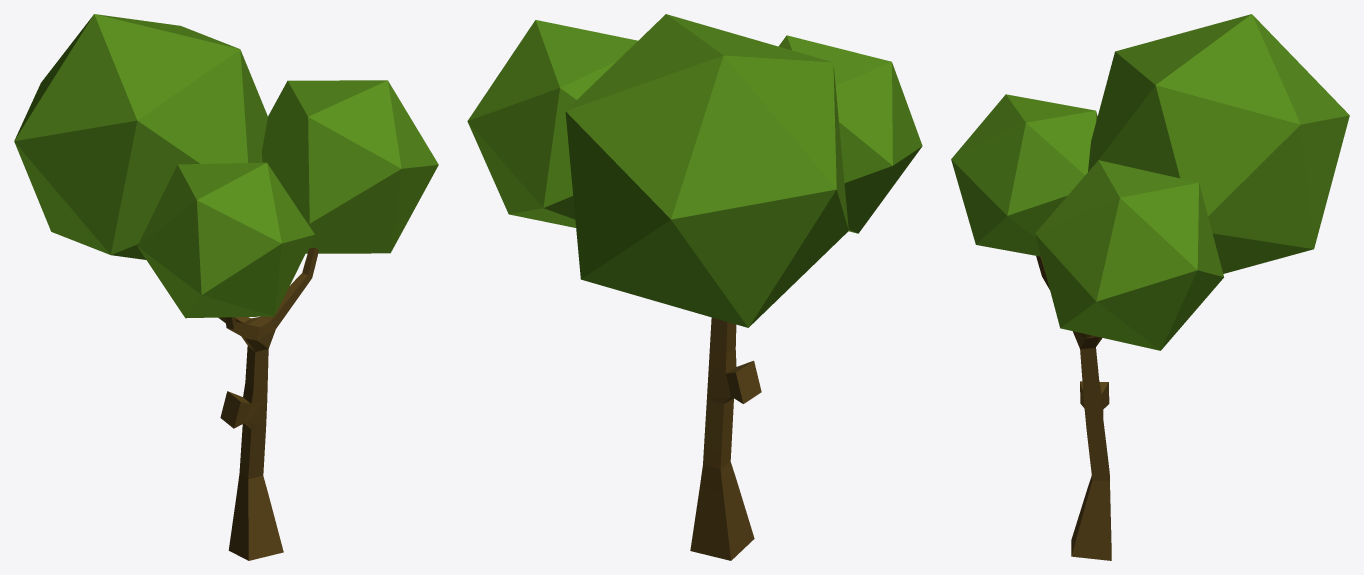
Rendered from Tree01.fbx.
3 views of the same model, side by side, from view 1: azimuth 30°, elevation 25°; view 2: azimuth 150°, elevation 25°; view 3: azimuth 270°, elevation 25° (orthographic). The views are drawn at different scales.
Parts seen in each view (by area): view 1: Tree01; view 2: Tree01; view 3: Tree01.
Part boxes in pixels (box(x1,y1,x2,y2)): Tree01: box(14, 14, 438, 560); Tree01: box(467, 14, 922, 560); Tree01: box(951, 14, 1349, 560).
Size of the model in its own units: 5.06 by 6.82 by 4.94.
